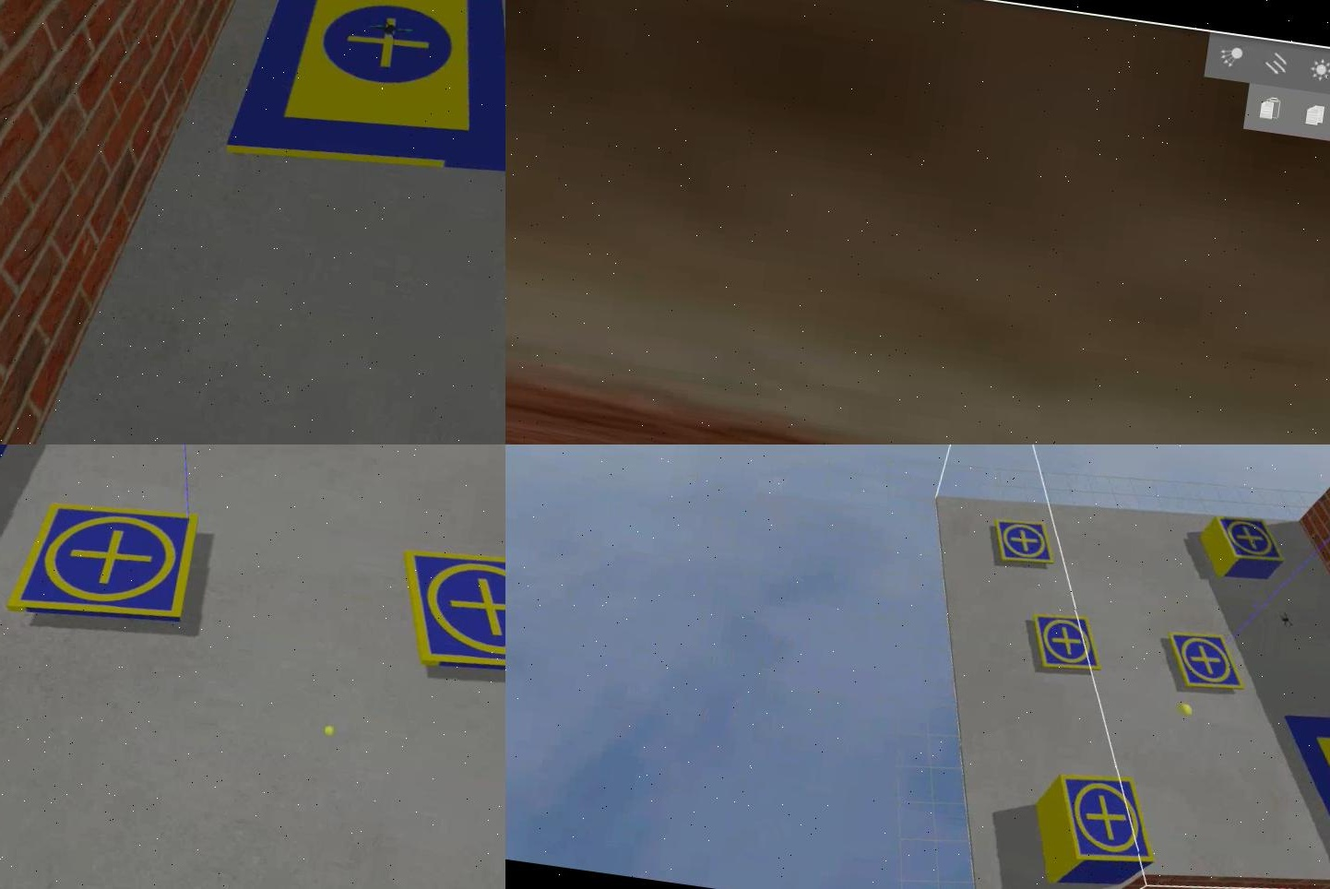large_base: (220, 1, 505, 192), (1264, 705, 1328, 889)
small_base: (4, 488, 203, 639), (387, 542, 505, 698), (1046, 769, 1158, 868), (1017, 609, 1103, 680), (1158, 630, 1249, 692), (985, 513, 1061, 571), (1208, 512, 1285, 564)
